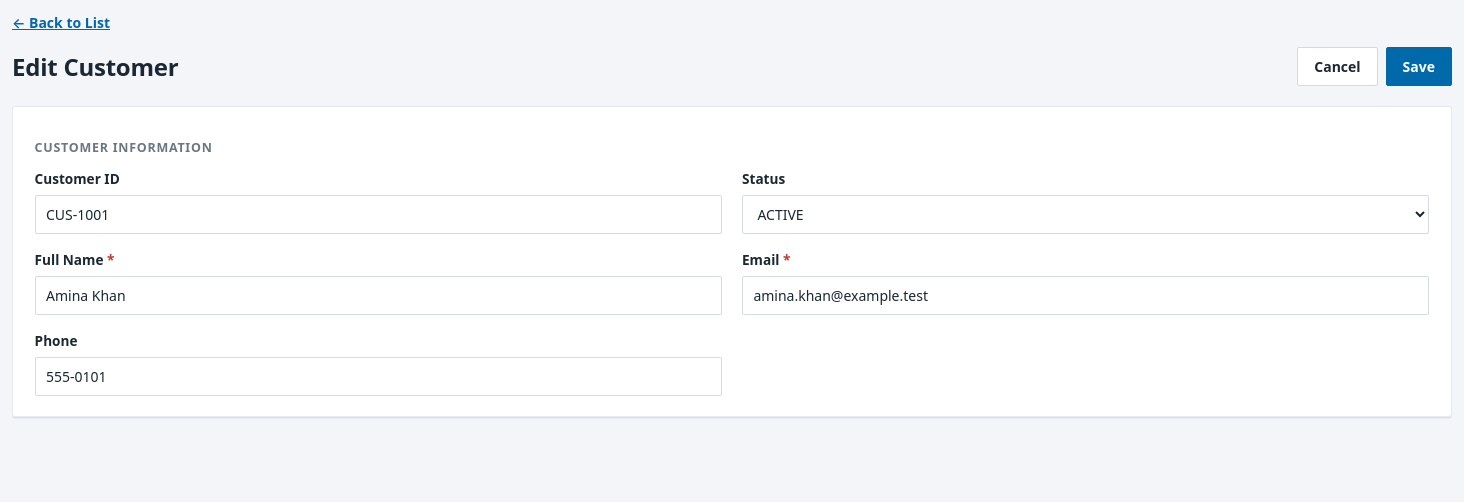
CustomerFormPage › shows the reason when the server refuses the save
The image size is (1464, 502).
Step 1. Click the button "Save" → (1419, 67), box [1386,47,1452,86]
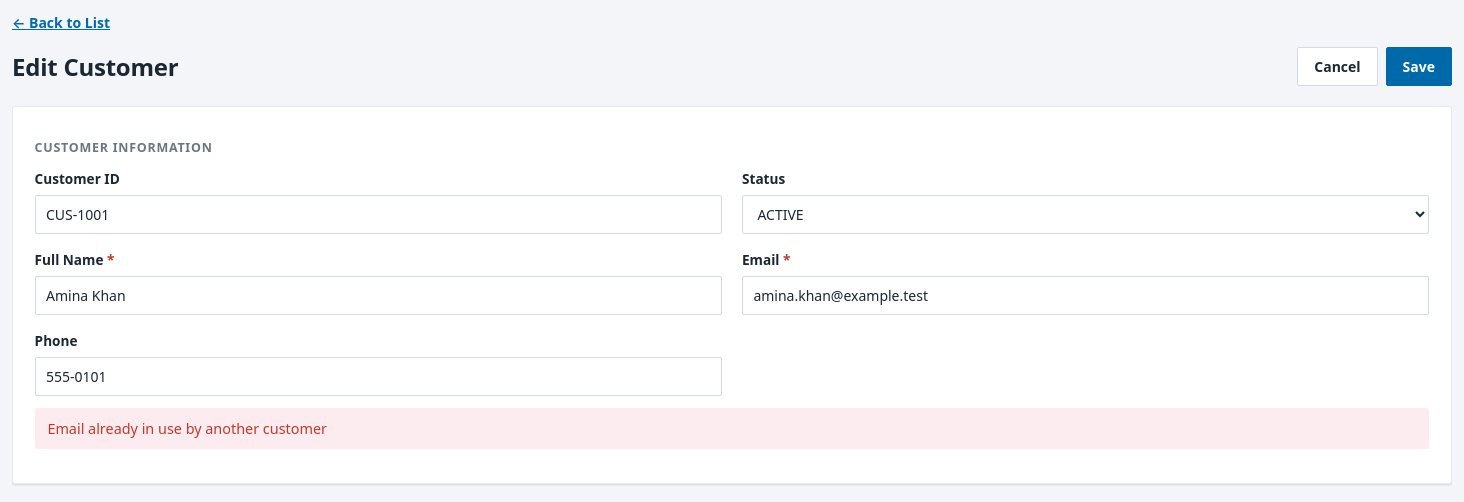
Check: the message reads "Email already in use by another customer", box [47,418,327,438]
